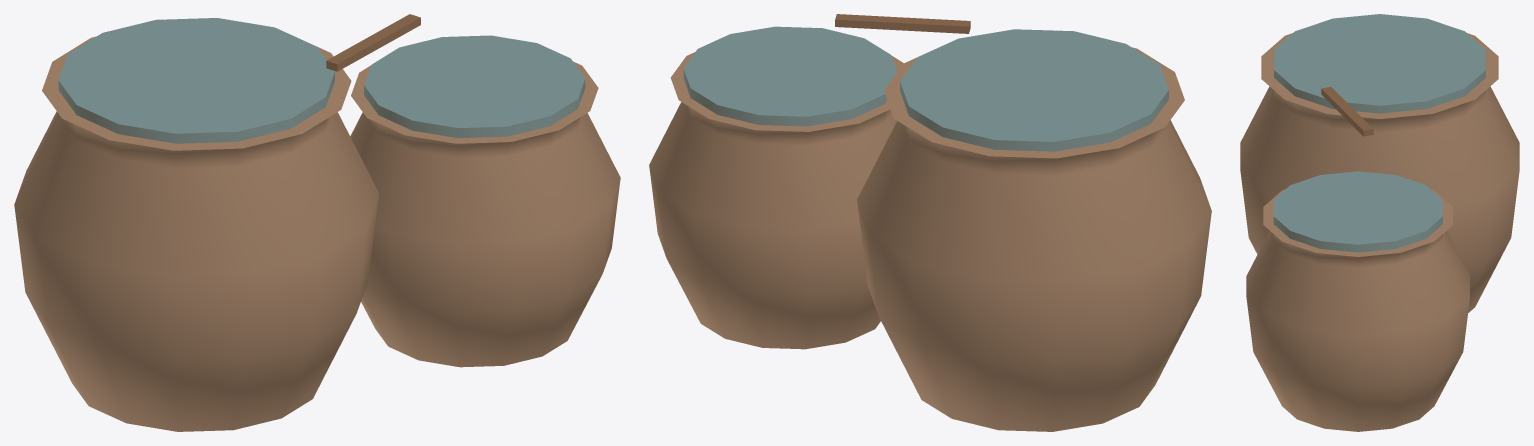
Rendered from prop_tc_lu_nuoc_2.3da1efcb34.glb.
3 renders of one model, left to right at view 1: azimuth 30°, elevation 25°; view 2: azimuth 150°, elevation 25°; view 3: azimuth 270°, elevation 25°, orthographic. The views are drawn at different scales.
Parts seen in each view (by area): view 1: prop_tc_lu_nuoc_2; view 2: prop_tc_lu_nuoc_2; view 3: prop_tc_lu_nuoc_2.
Part boxes in pixels (bbox=[...]): prop_tc_lu_nuoc_2: bbox=[14, 14, 620, 431]; prop_tc_lu_nuoc_2: bbox=[649, 14, 1211, 431]; prop_tc_lu_nuoc_2: bbox=[1240, 14, 1519, 431].
Size of what is drawn, in the model's own units: 2.29 by 1.29 by 1.29.
